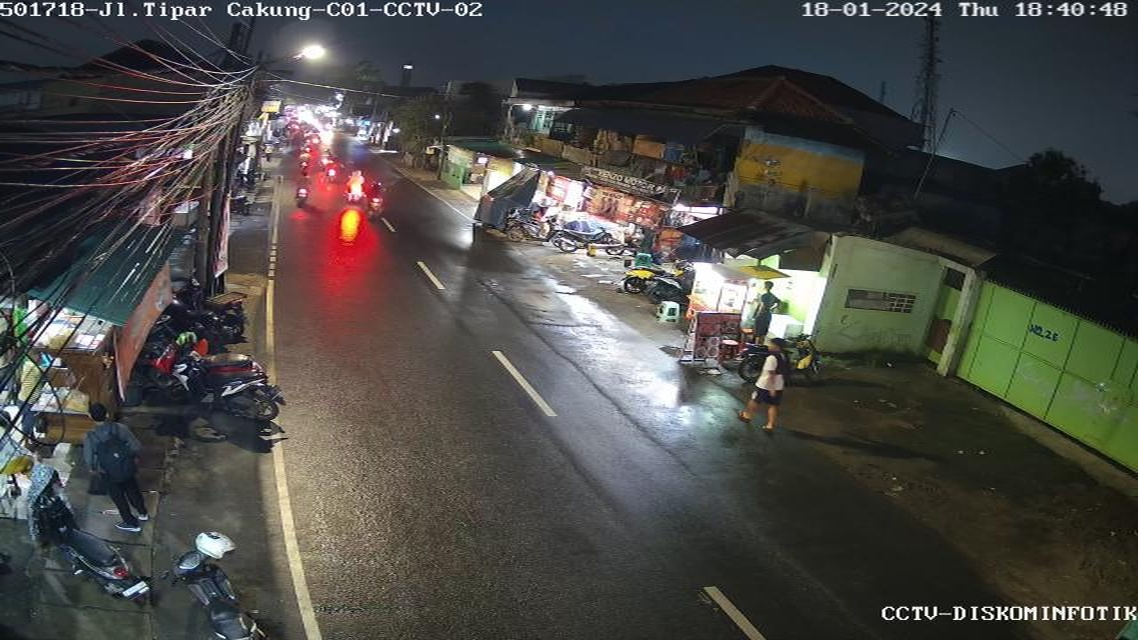Gerobak: (25, 292, 165, 449), (667, 244, 797, 380)
